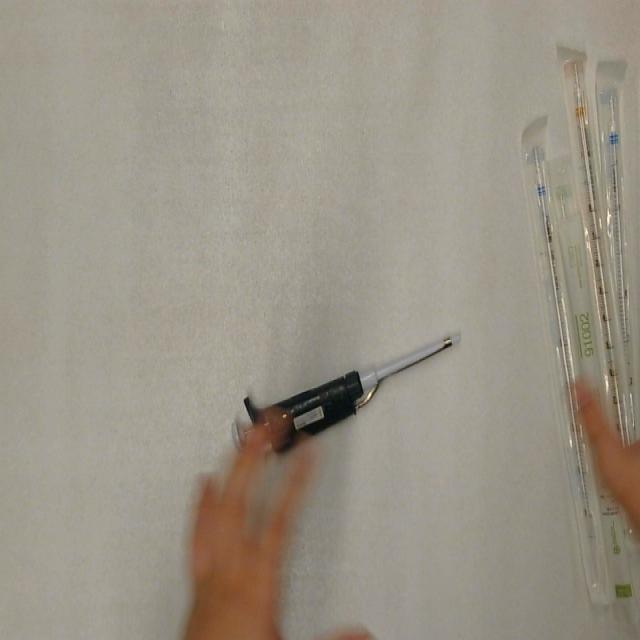Serelogical Pipet 10 mL - Sealed: (558, 46, 632, 444)
Serelogical Pipet 2 mL - Sealed: (547, 152, 640, 634)
Serelogical Pipet 5 mL - Sealed: (518, 109, 614, 611), (596, 77, 636, 441)
Single Channel Pipettor: (225, 327, 469, 467)
